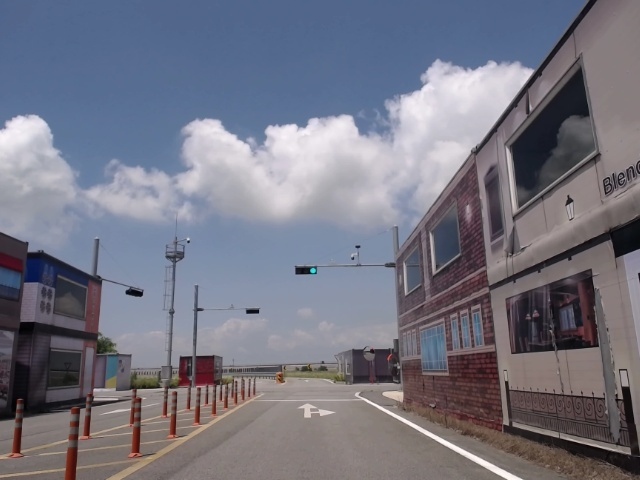green_3: (296, 266, 316, 274)
